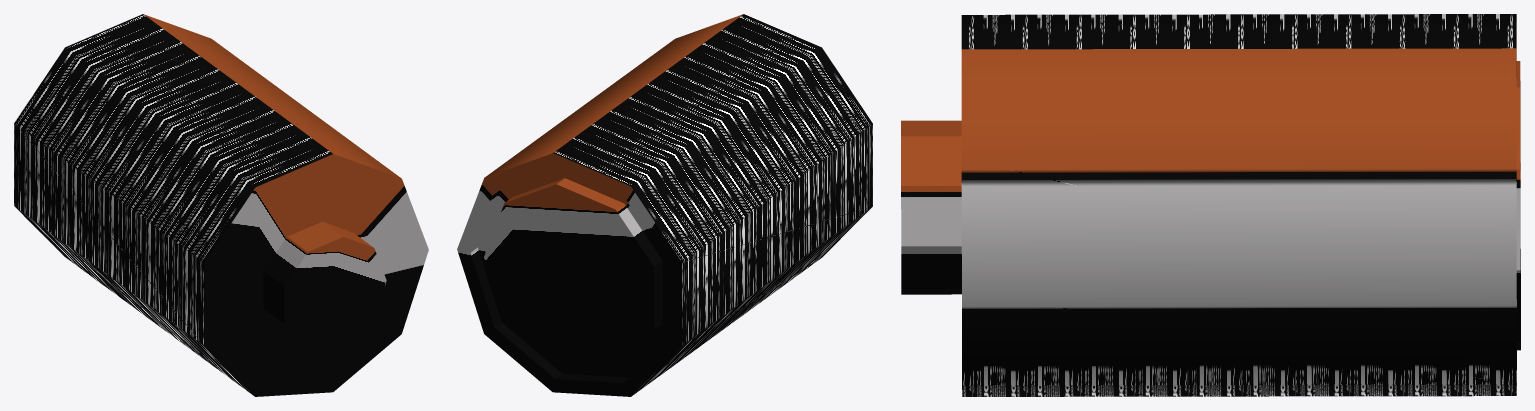
The model's file is Battery_3d.fbx.
3 views of the same model, side by side, from view 1: azimuth 30°, elevation 25°; view 2: azimuth 150°, elevation 25°; view 3: azimuth 270°, elevation 25° (orthographic). The views are drawn at different scales.
Parts seen in each view (by area): view 1: Cylinder001; view 2: Cylinder001; view 3: Cylinder001.
Part boxes in pixels (x1,y1,x2,y2): Cylinder001: (14,14,428,396); Cylinder001: (457,14,872,396); Cylinder001: (901,14,1520,396).
Bounding box in the file's own units: 28.51 × 29.03 × 46.79.
Materials: 1 (1 with a texture image).
